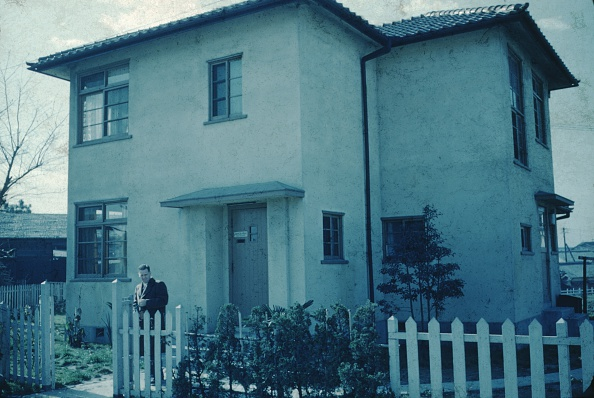em pe: (129, 259, 165, 346)
